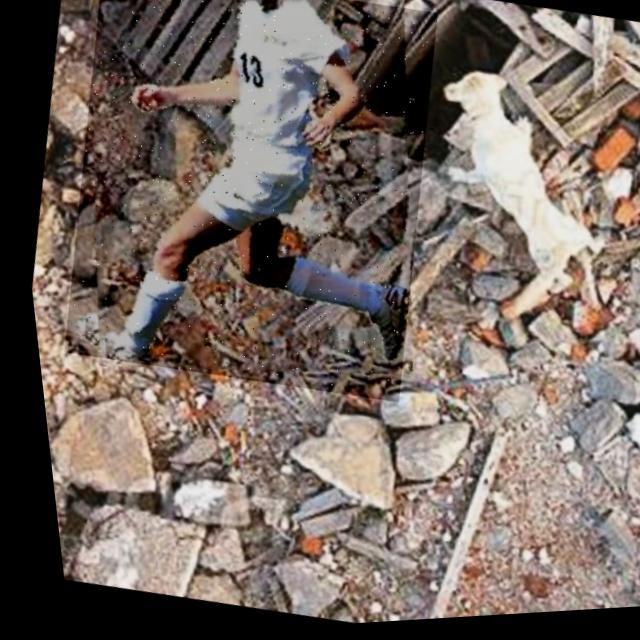Person in Rubble: (25, 0, 470, 422)
